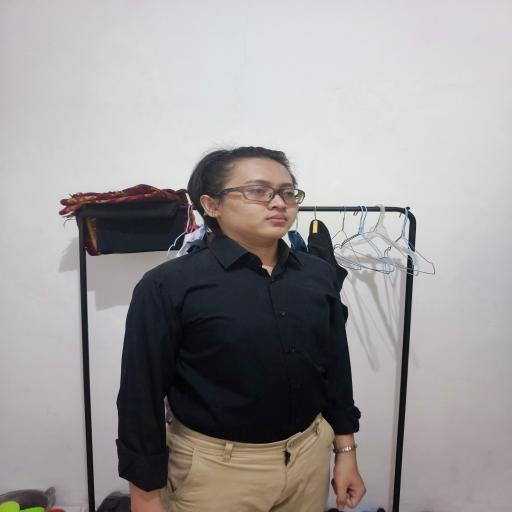celana_salah: (165, 422, 341, 512)
kemeja_salah: (114, 247, 370, 435)
